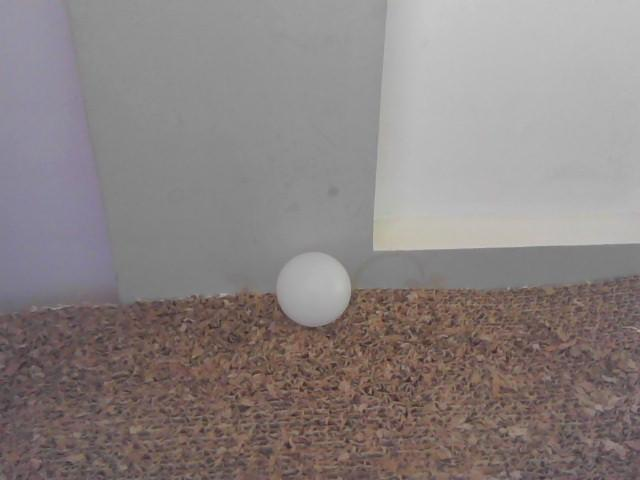ball: (273, 254, 352, 327)
